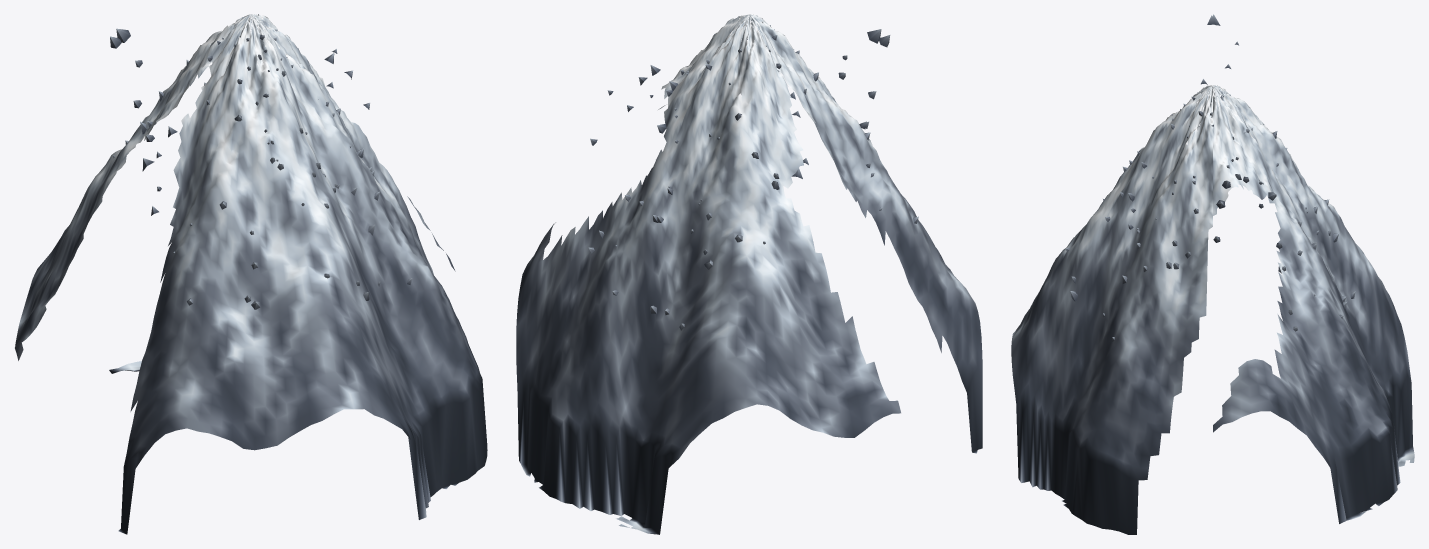
The model's file is dragon_peak.glb.
3 views of the same model, side by side, from view 1: azimuth 30°, elevation 25°; view 2: azimuth 150°, elevation 25°; view 3: azimuth 270°, elevation 25° (orthographic). The views are drawn at different scales.
Visible parts, largest first — view 1: dragon_peak; view 2: dragon_peak; view 3: dragon_peak.
Part boxes in pixels (<box>): dragon_peak: <box>15,14,487,534</box>; dragon_peak: <box>516,14,982,534</box>; dragon_peak: <box>1011,14,1414,534</box>.
Size of the model in its own units: 113 by 123 by 116.
1 material, 1 textured.
